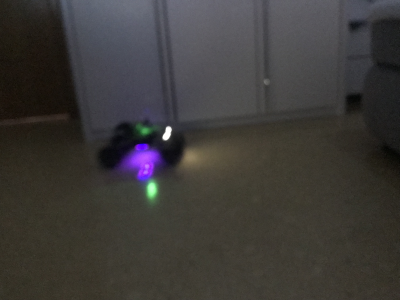remote control car: (97, 114, 187, 173)
